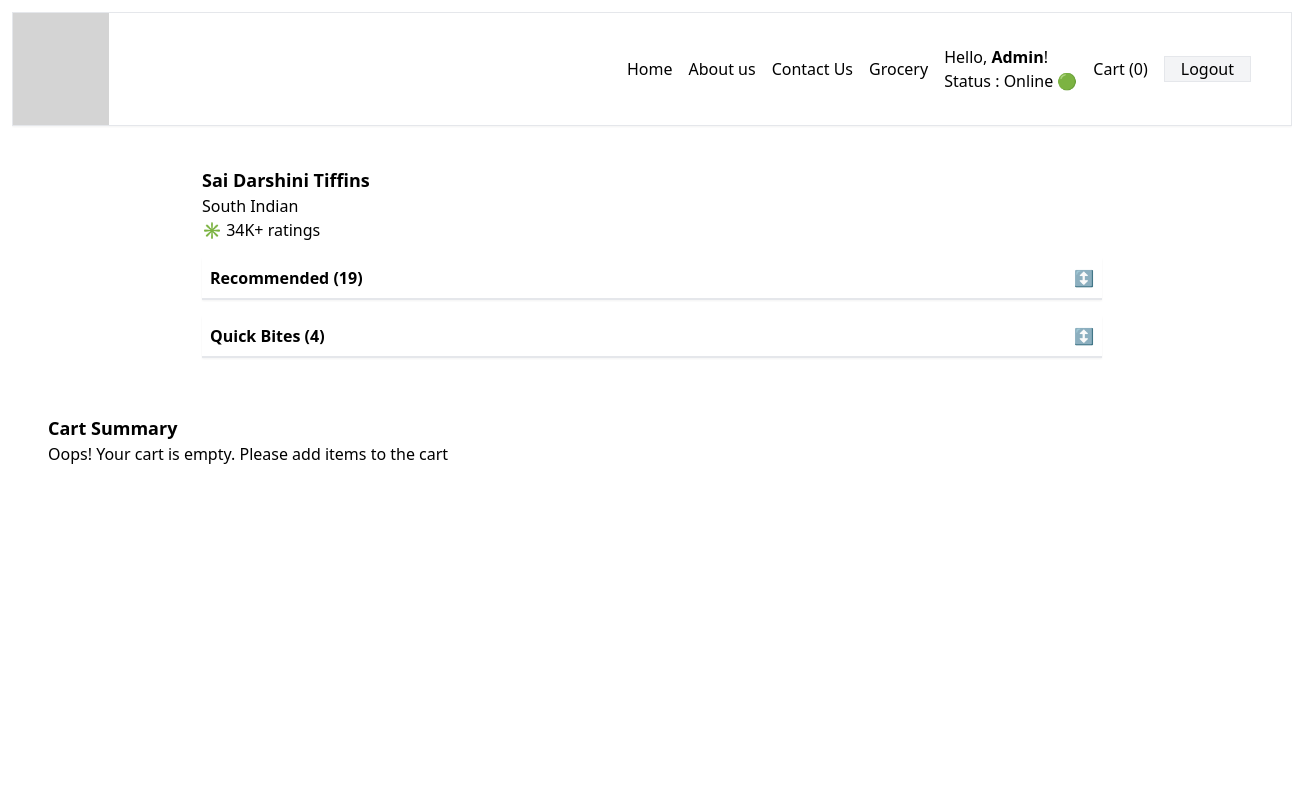
Scenario: Should render REsto Menu component and display cart › Should render Restro Menu component
Step 1. Click the heading "Recommended (19)" → (286, 278), box 210,266 -> 363,290
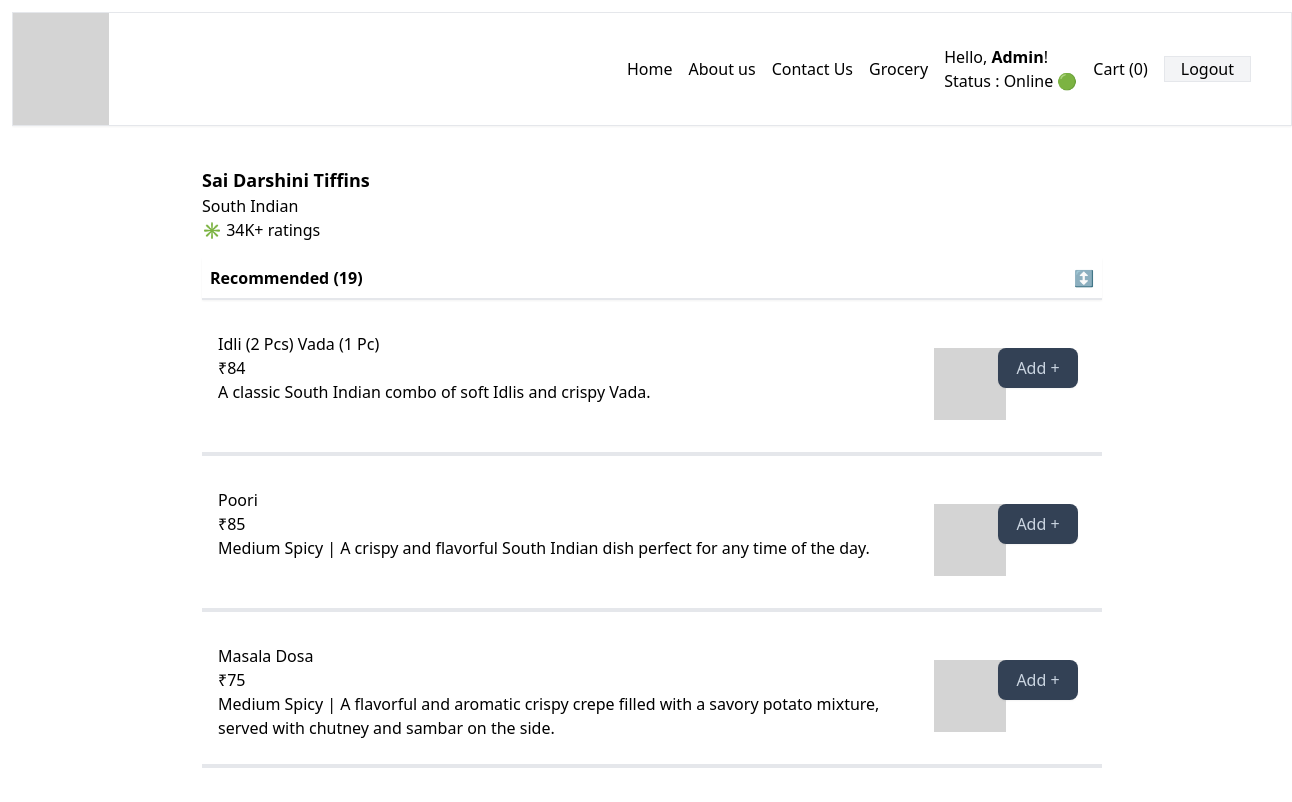
Expected: the number of elements with test id "foodItems" is 19
